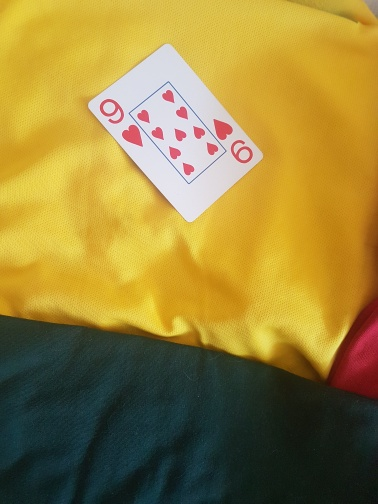nine: (88, 40, 263, 223)
